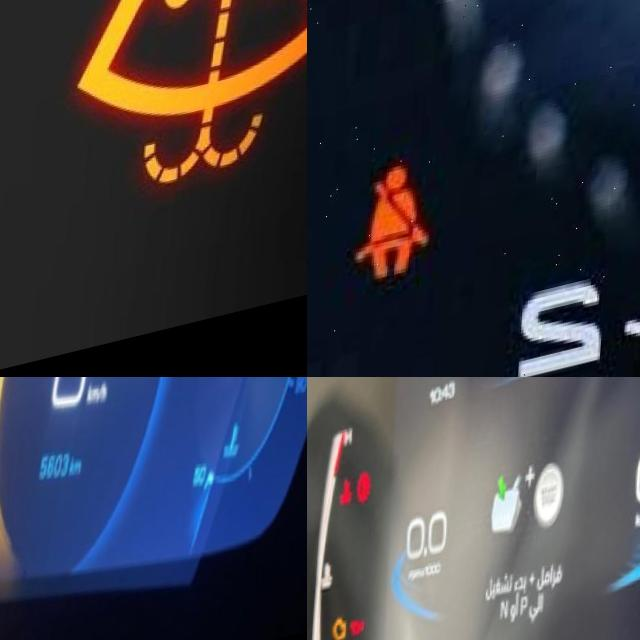High Engine Coolant Temperature: (340, 479, 358, 515)
Seat Belt: (355, 176, 440, 302)
Washer Fluid: (81, 0, 307, 213)
